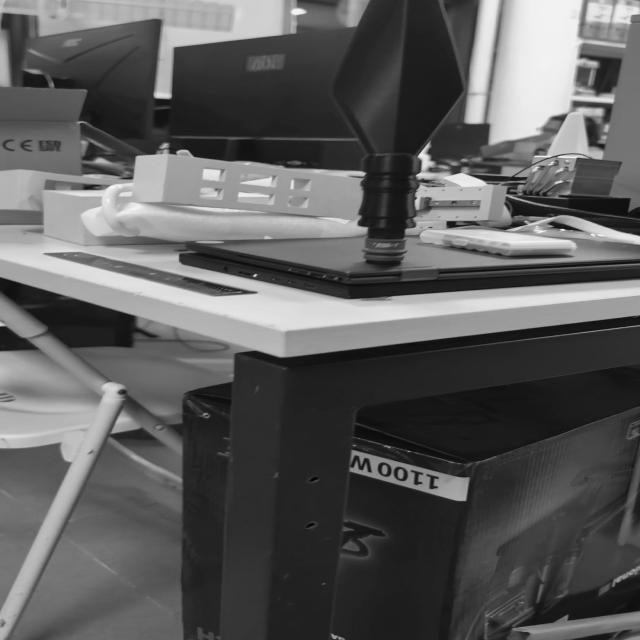base: (356, 234, 414, 266)
